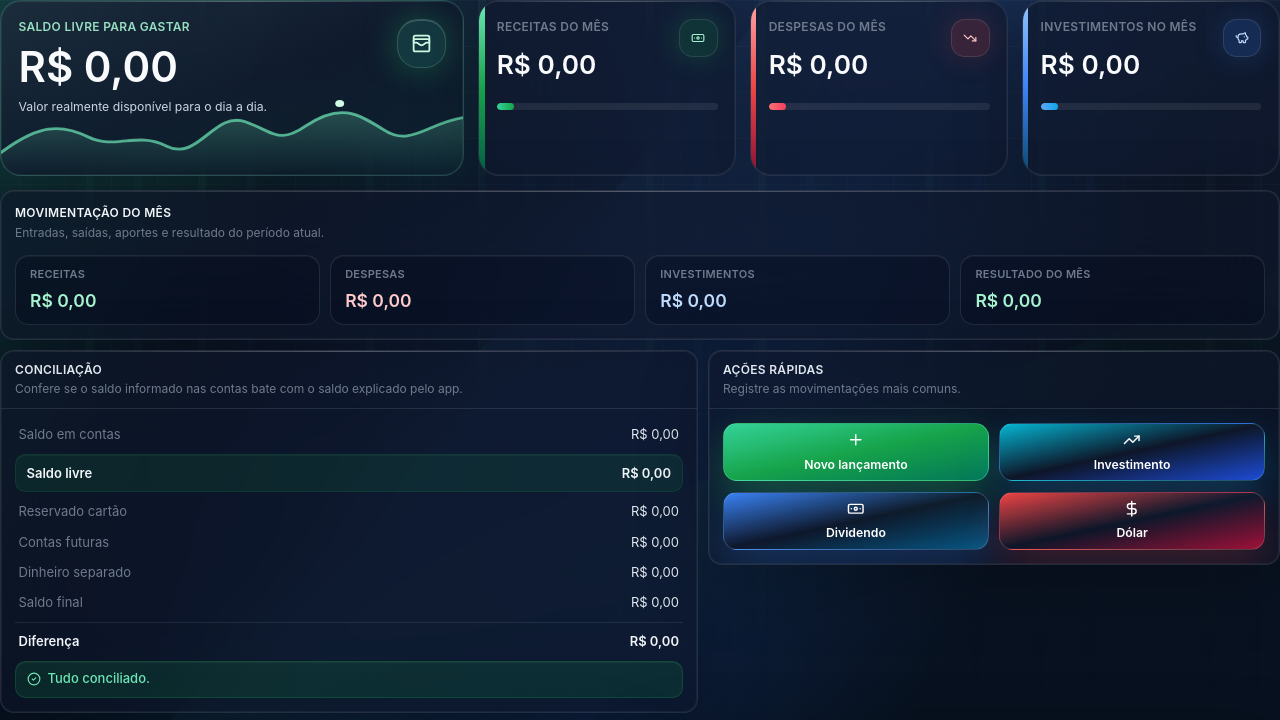
Test case: Dashboard quick actions › abre fluxo de registrar investimento
Click the button with aria-label "registrar investimento" at {"x": 1132, "y": 464}, box [999,424,1265,482]
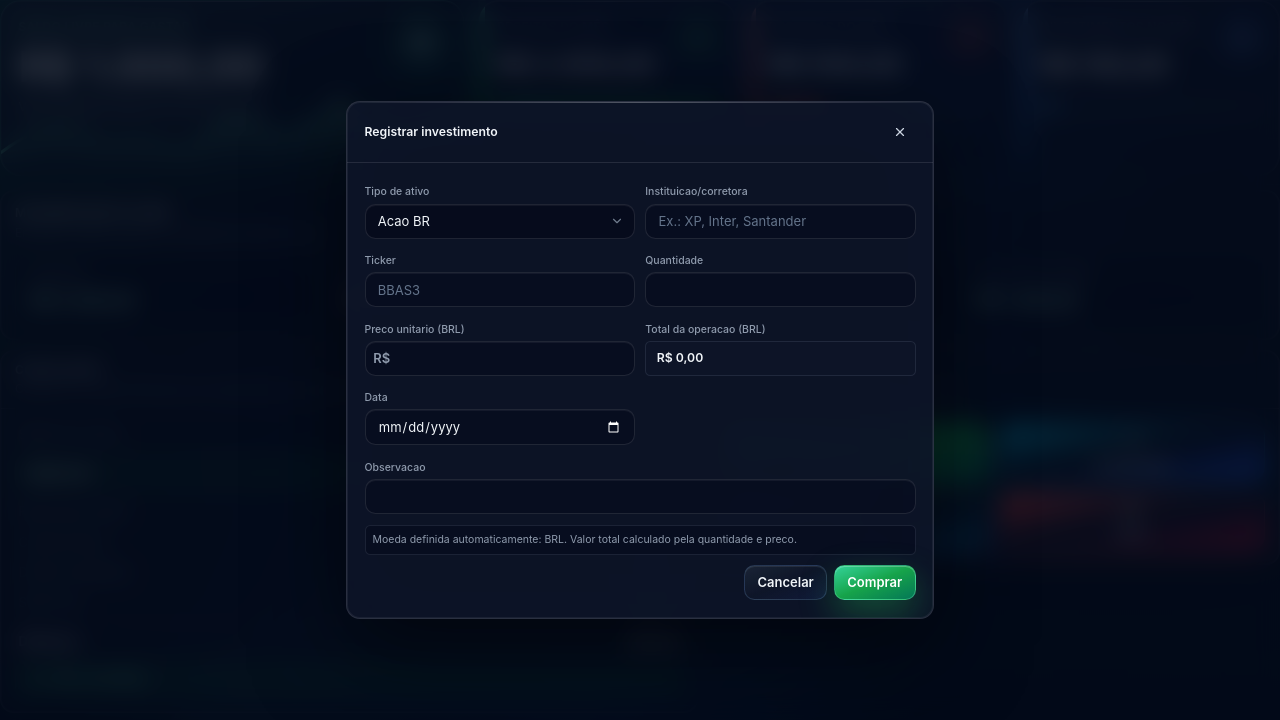
Expected: the heading "Registrar investimento" is shown, [364,123,498,141]
